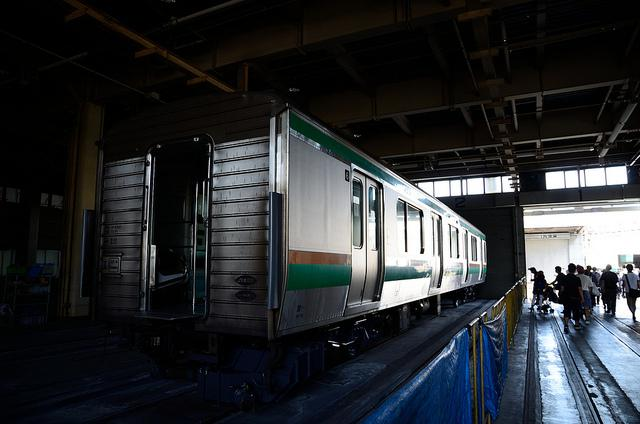Train: (53, 94, 489, 409)
